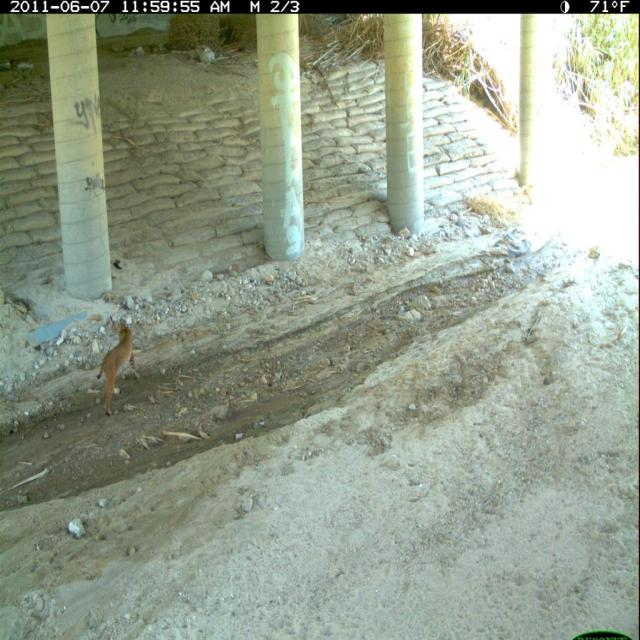bobcat: (93, 319, 144, 422)
